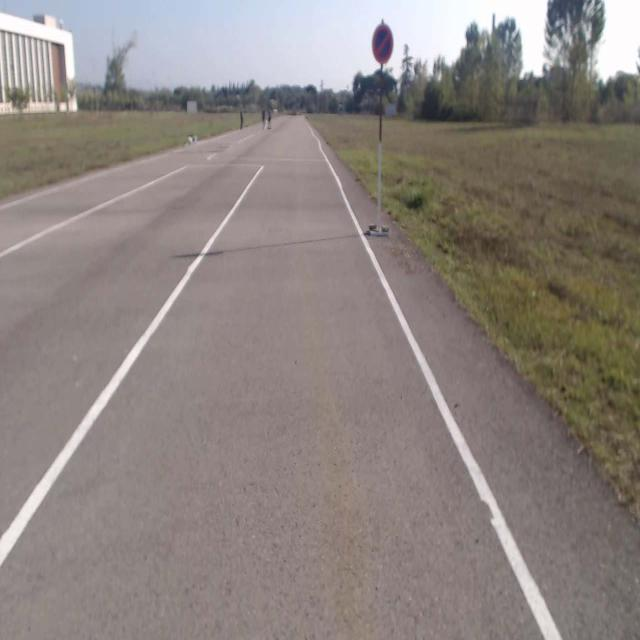parkyasak: (373, 24, 392, 61)
